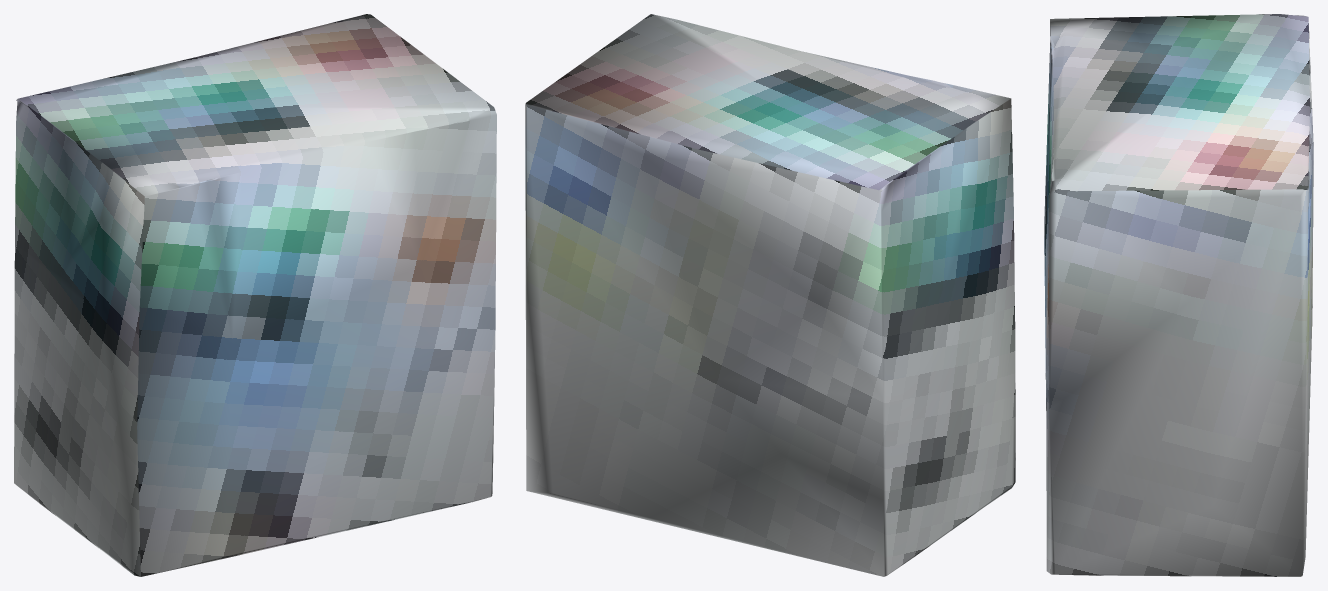
File: Philips_EcoVantage_43_W_Light_Bulbs_Natural_Light_2_pack-low.glb
3 renders of one model, left to right at view 1: azimuth 30°, elevation 25°; view 2: azimuth 150°, elevation 25°; view 3: azimuth 270°, elevation 25°, orthographic.
Parts seen in each view (by area): view 1: Philips_EcoVantage_43_W_Light_Bulbs_Natural_Light_2_pack; view 2: Philips_EcoVantage_43_W_Light_Bulbs_Natural_Light_2_pack; view 3: Philips_EcoVantage_43_W_Light_Bulbs_Natural_Light_2_pack.
Boxes of the visible parts, x1,y1,x2,y2 form: Philips_EcoVantage_43_W_Light_Bulbs_Natural_Light_2_pack: (14,14,496,576); Philips_EcoVantage_43_W_Light_Bulbs_Natural_Light_2_pack: (525,14,1015,576); Philips_EcoVantage_43_W_Light_Bulbs_Natural_Light_2_pack: (1044,14,1313,576).
Bounding box in the file's own units: 0.1068 × 0.1068 × 0.0667.
1 material, 1 textured.
